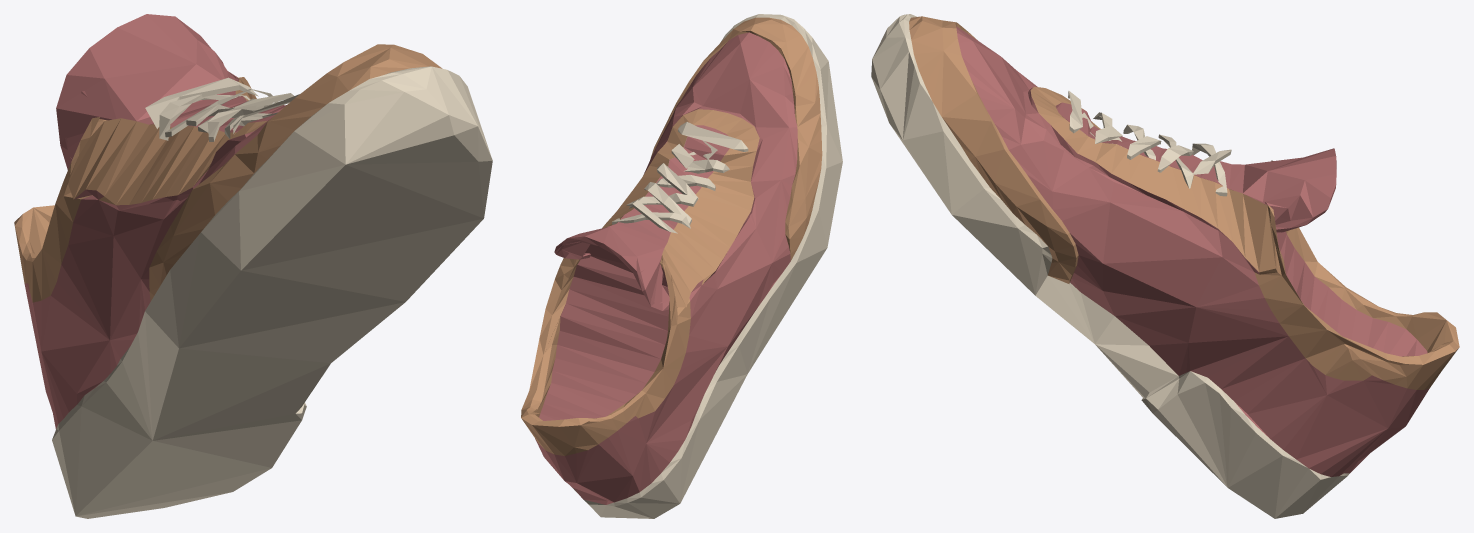
File: Snikkers.fbx
3 views of the same model, side by side, from view 1: azimuth 30°, elevation 25°; view 2: azimuth 150°, elevation 25°; view 3: azimuth 270°, elevation 25° (orthographic). The views are drawn at different scales.
Visible parts, largest first — view 1: gold; view 2: gold; view 3: gold.
Part boxes in pixels (x1,y1,x2,y2): gold: (14,14,492,518); gold: (521,14,842,518); gold: (871,14,1459,518).
Bounding box in the file's own units: 0.3775 × 0.8567 × 0.9464.
